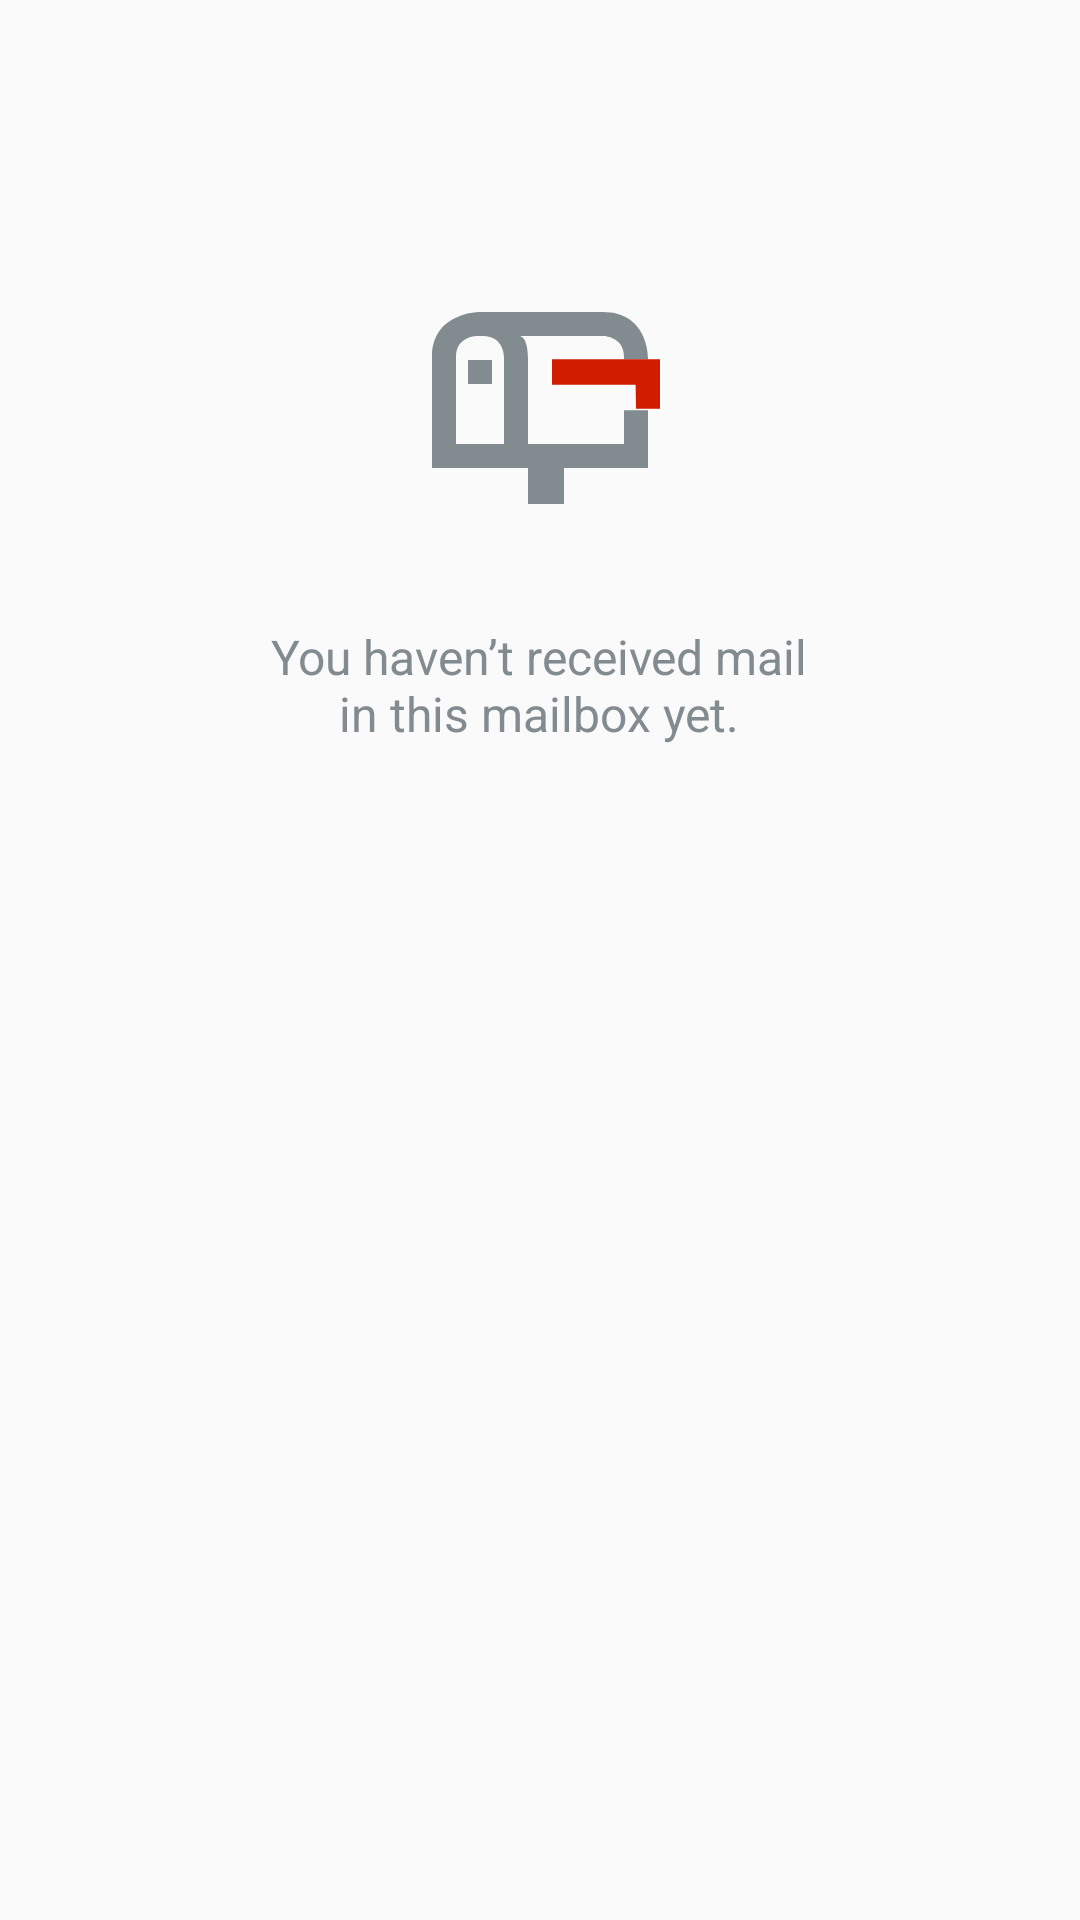

Named icons in this screenshot (1080px×1920px) and their centers, point (x, y):
empty mailbox: point (546, 408)
